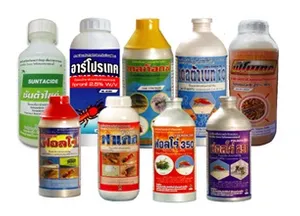Insecticide: (227, 18, 282, 147), (16, 17, 67, 150), (150, 94, 197, 205), (172, 16, 229, 107), (205, 94, 252, 203), (67, 15, 123, 105), (96, 94, 141, 203), (37, 94, 83, 200), (121, 15, 174, 103)
